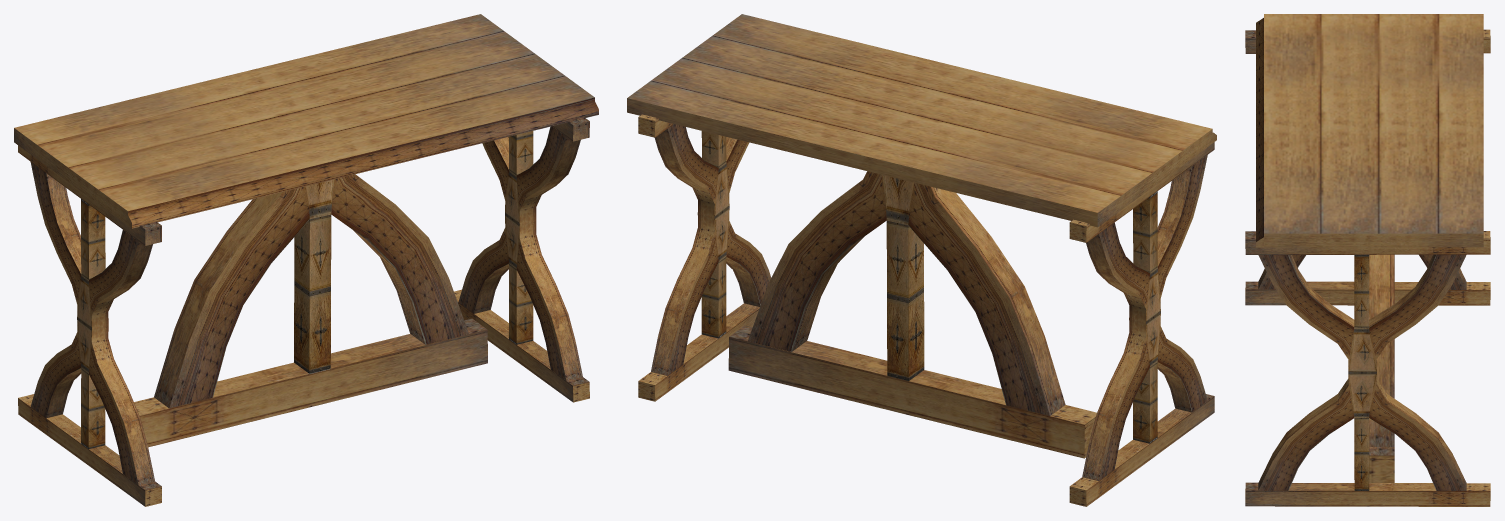
The model's file is TableC.dae.
3 views of the same model, side by side, from view 1: azimuth 30°, elevation 25°; view 2: azimuth 150°, elevation 25°; view 3: azimuth 270°, elevation 25° (orthographic). The views are drawn at different scales.
Visible parts, largest first — view 1: meshU3D; view 2: meshU3D; view 3: meshU3D.
Boxes of the visible parts, left/top/right/bottom form: meshU3D: left=14, top=14, right=598, bottom=506; meshU3D: left=627, top=14, right=1216, bottom=506; meshU3D: left=1245, top=14, right=1490, bottom=506.
Size of the model in its own units: 69.67 by 41.65 by 32.92.
